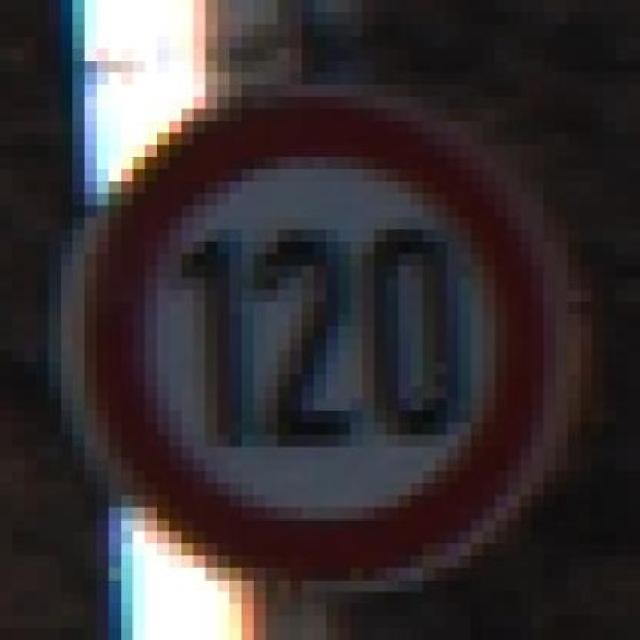forb_speed_over_120: (95, 90, 553, 579)
